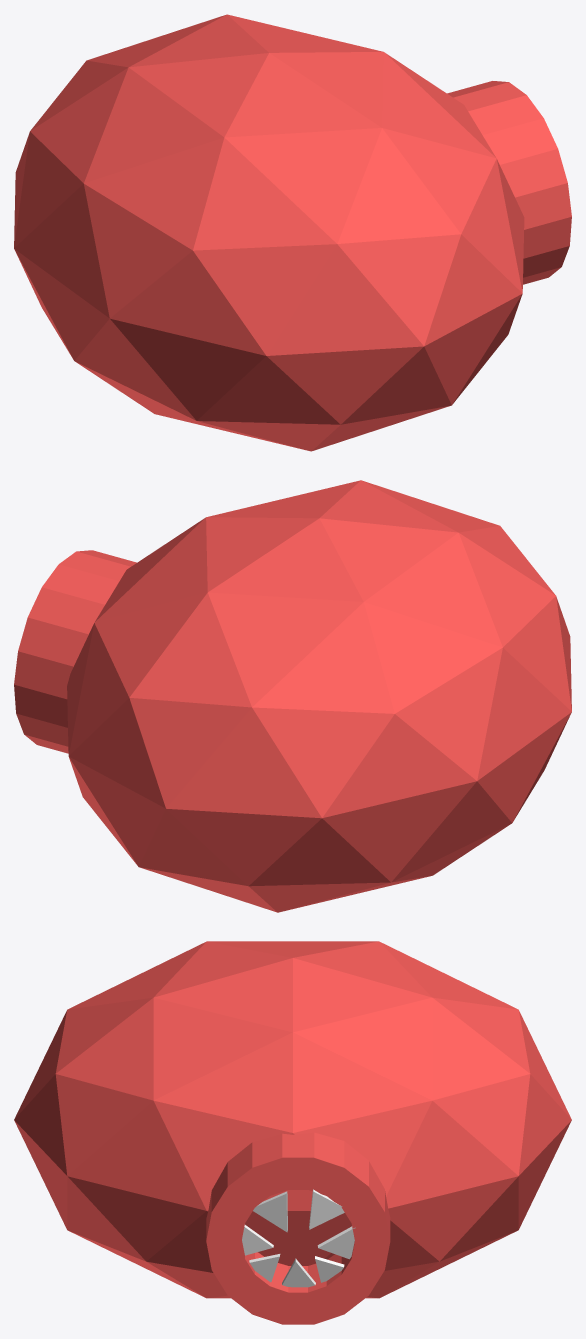
File: Monster_Spider_2_Body.FBX
3 views of the same model, one above another, from view 1: azimuth 30°, elevation 25°; view 2: azimuth 150°, elevation 25°; view 3: azimuth 270°, elevation 25° (orthographic). The views are drawn at different scales.
Visible parts, largest first — view 1: Body001; view 2: Body001; view 3: Body001, Prism012, Prism011, Prism010, Prism008, Prism013, Prism014.
Part boxes in pixels (<box>): Body001: <box>14,14,571,451</box>; Body001: <box>14,480,571,912</box>; Body001: <box>14,941,571,1324</box>; Prism012: <box>253,1191,287,1232</box>; Prism011: <box>309,1189,344,1229</box>; Prism010: <box>317,1226,355,1259</box>; Prism008: <box>282,1258,315,1287</box>; Prism013: <box>242,1225,273,1255</box>; Prism014: <box>249,1254,280,1282</box>.
Size of the model in its own units: 9.87 by 7.3 by 11.39.
